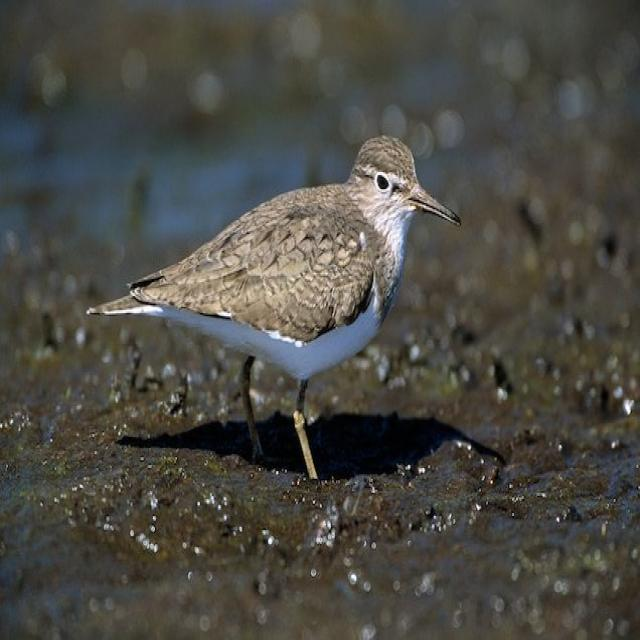Sandpiper: (93, 124, 461, 479)
